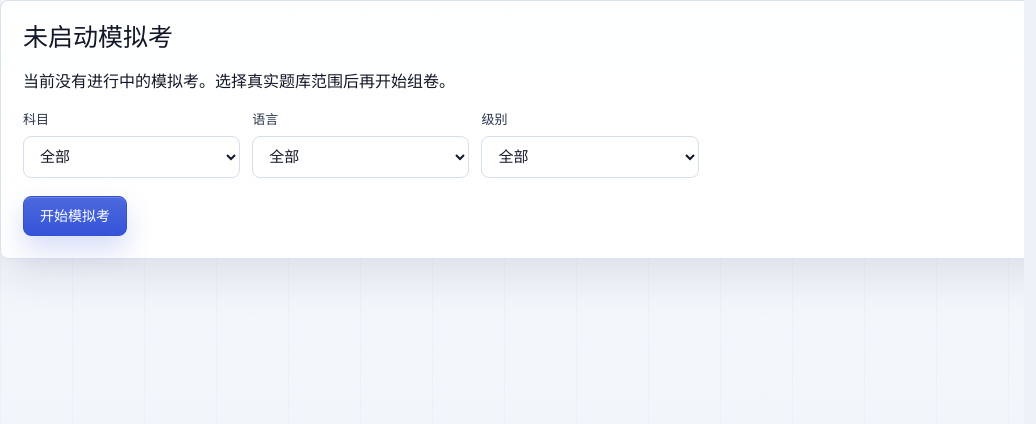
ExamPage › creates an exam only after the user starts it
Select "科目二（编程知识）" in the dropdown labelled "科目": (132, 157) left=23, top=136, right=240, bottom=178
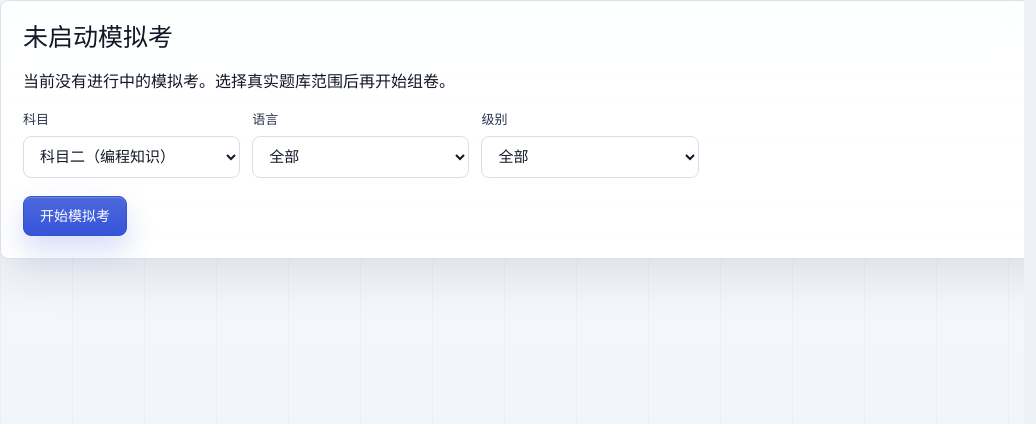
Select "Java" in the dropdown labelled "语言": (361, 157) left=252, top=136, right=469, bottom=178
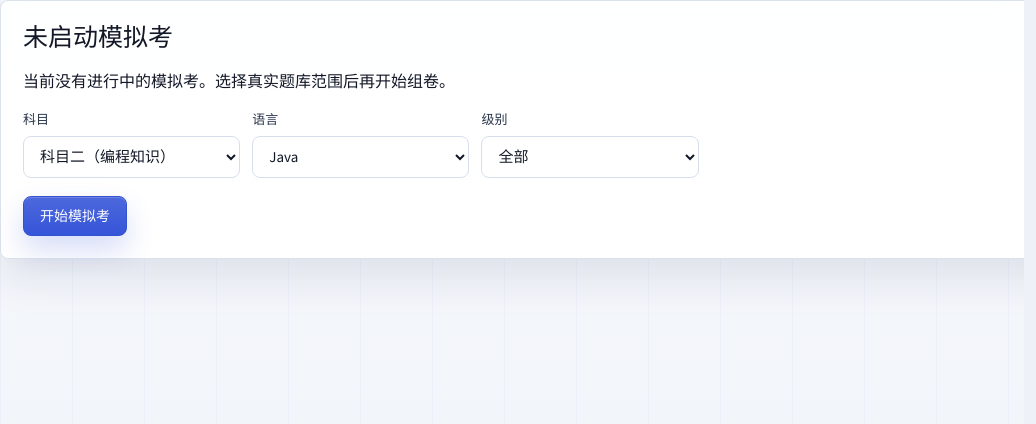
Select "工作级" in the dropdown labelled "级别": (590, 157) left=481, top=136, right=699, bottom=178
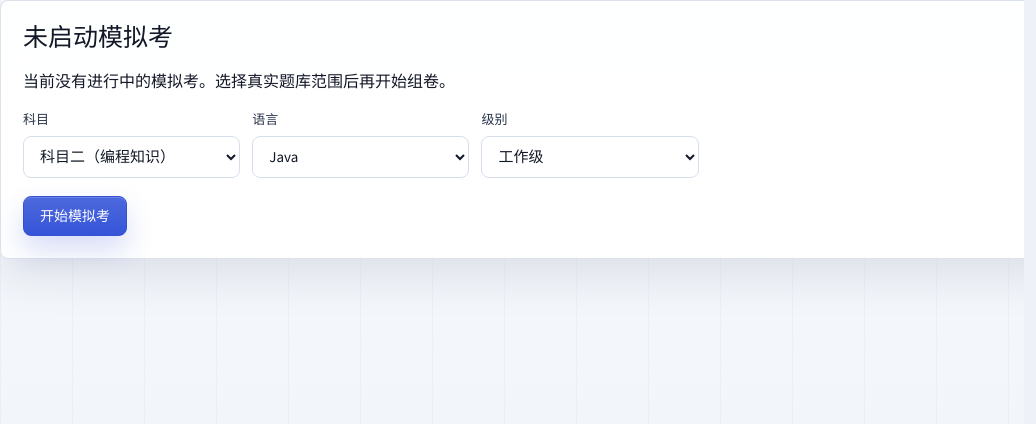
Click the button "开始模拟考": click(75, 216) left=23, top=196, right=127, bottom=236
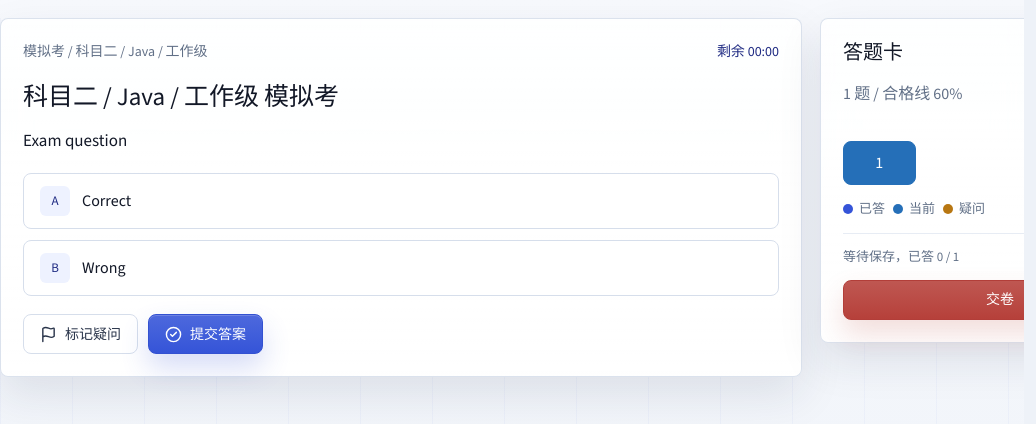
Result: the text "Exam question" is shown at left=23, top=128, right=127, bottom=152
Result: the element named "答题卡" is shown at left=843, top=141, right=916, bottom=185
